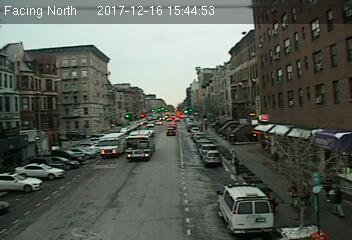bus: (125, 129, 156, 162)
car: (205, 152, 223, 164), (165, 128, 176, 137)
police: (214, 181, 274, 234)
truck: (99, 133, 126, 158)
